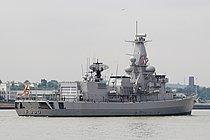MIL_Ship: (14, 33, 197, 117)
